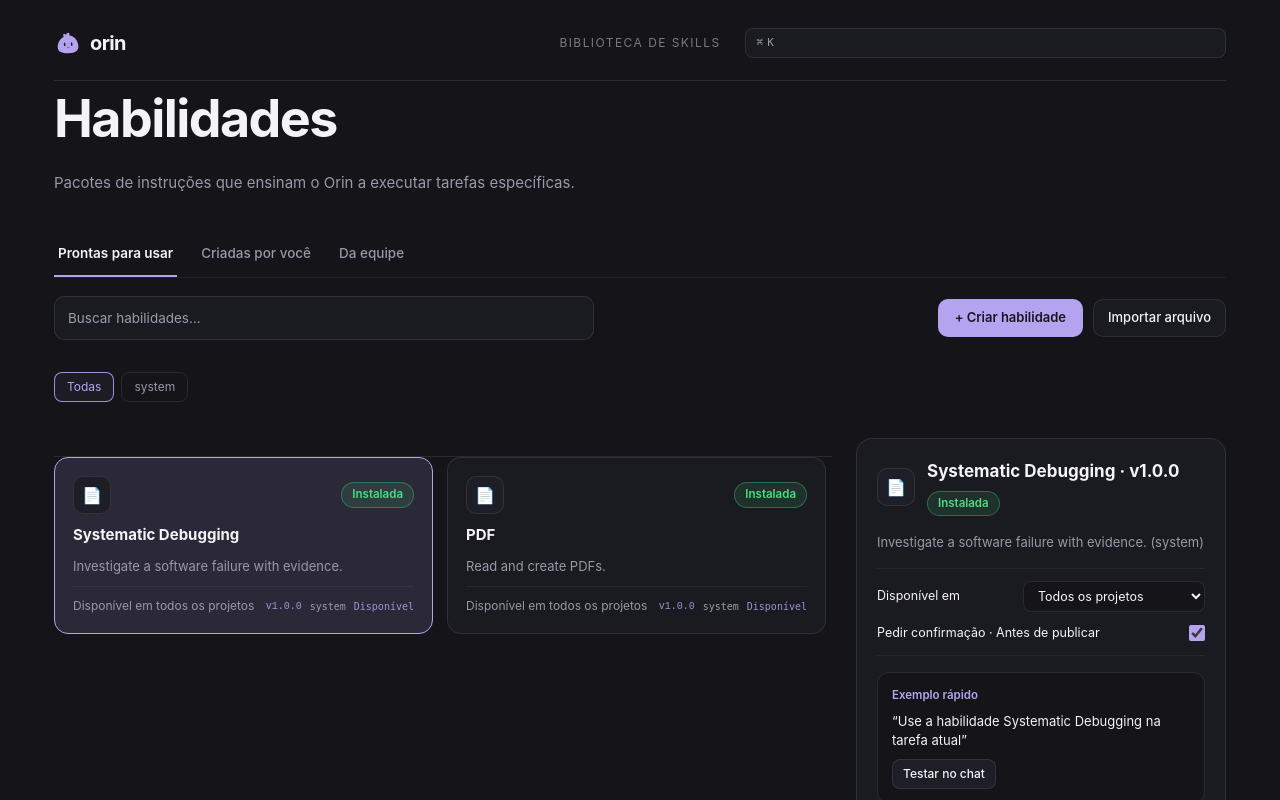
SkillsPage › filters compact skill rows without rendering instructions
Check: the link "Systematic Debugging" is shown, box [73,525,239,544]
In the search field named "Buscar skills": (324, 318) [54,296,594,340], type "debug"
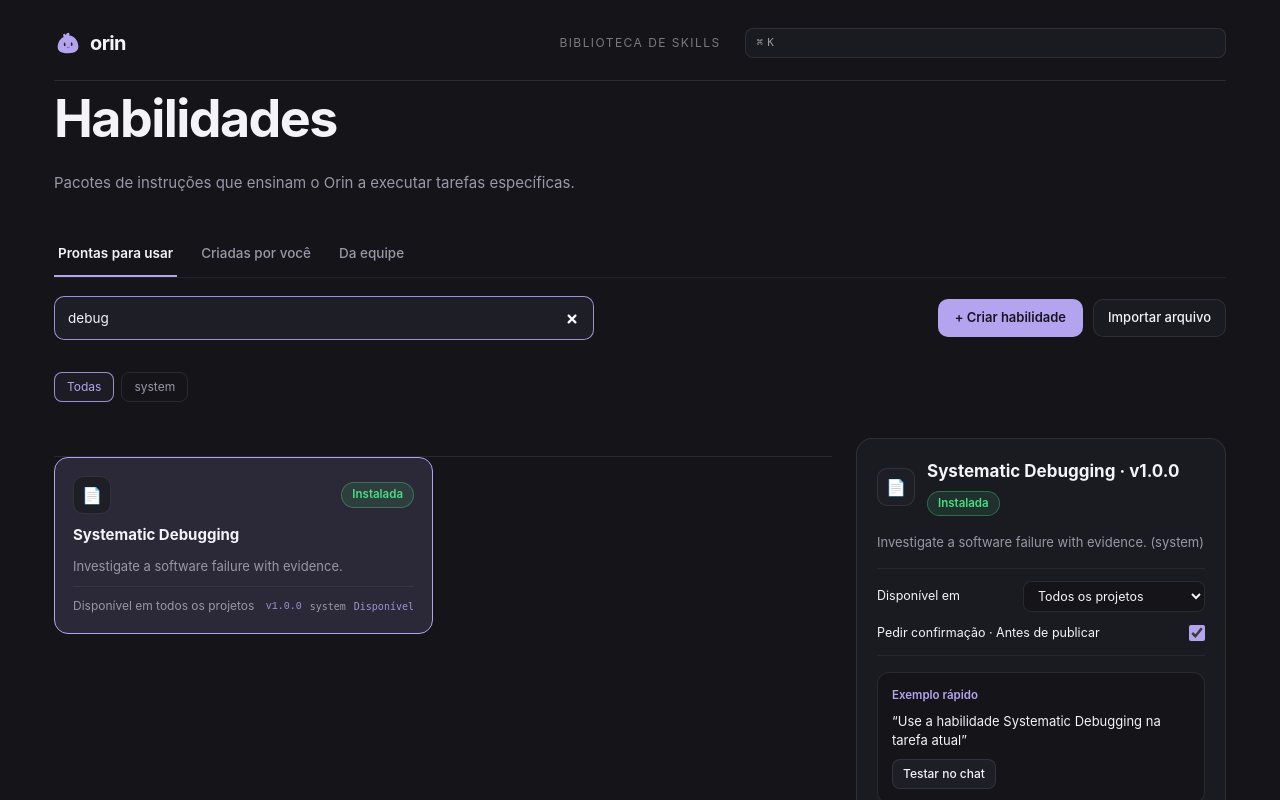
Check: the link "Systematic Debugging" is shown, box [73,525,239,544]
Check: the link "PDF" is gone
